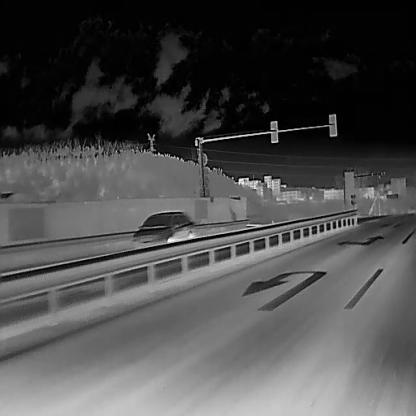car: (131, 211, 196, 251)
